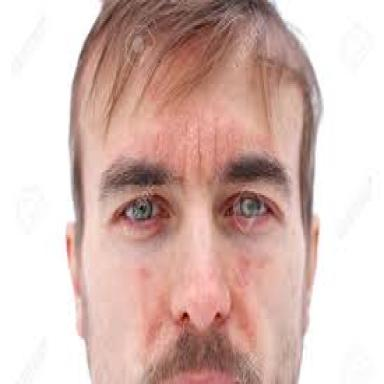burn: (101, 99, 295, 350), (144, 21, 218, 101), (156, 332, 245, 381)
